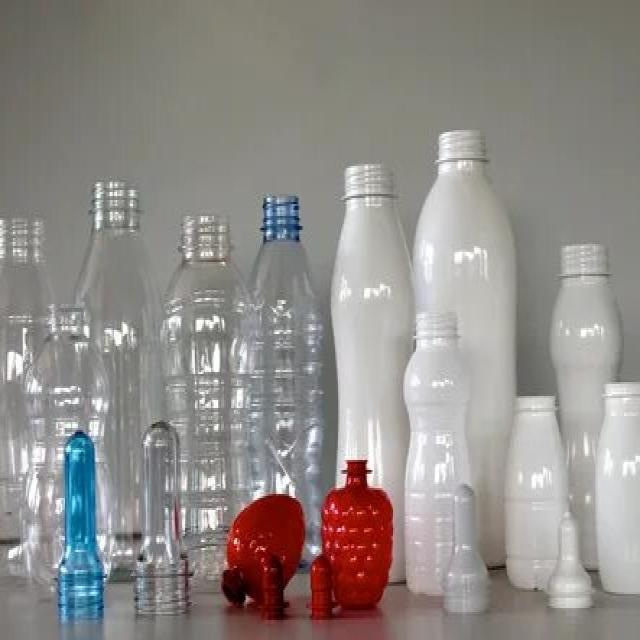blue: (249, 193, 324, 490)
